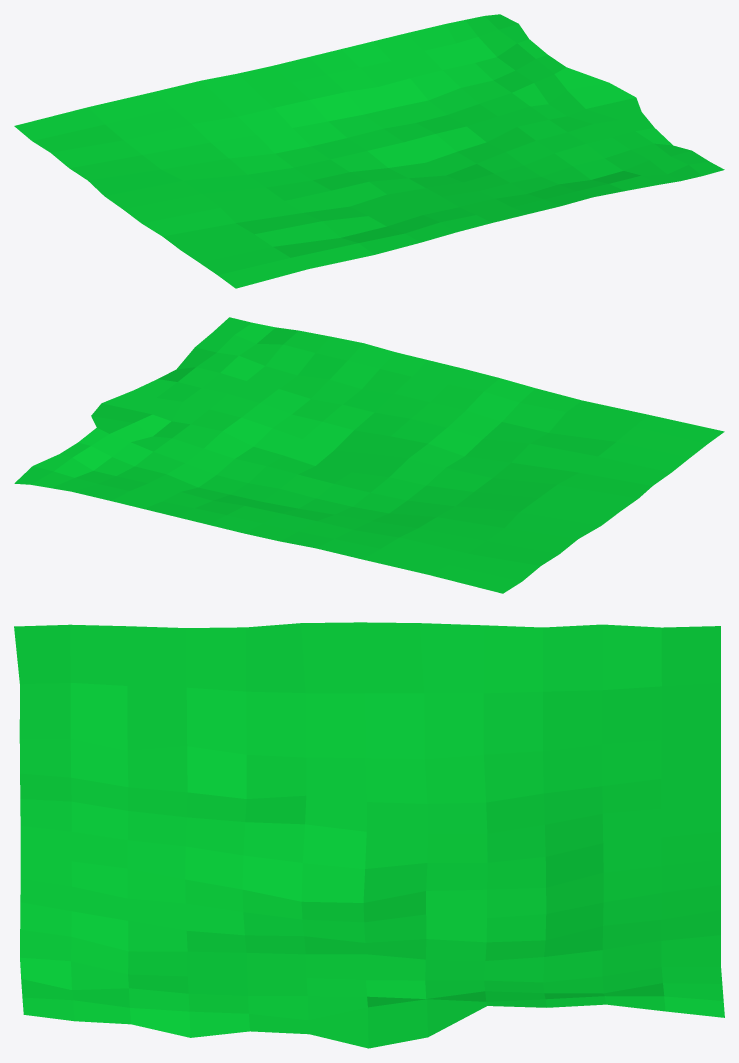
Rendered from valley.fbx.
The picture shows the model from 3 angles, top to bottom: view 1: azimuth 30°, elevation 25°; view 2: azimuth 150°, elevation 25°; view 3: azimuth 270°, elevation 25°; orthographic projection. The views are drawn at different scales.
Visible parts, largest first — view 1: Plane.012; view 2: Plane.012; view 3: Plane.012.
Boxes of the visible parts, x1=… form: Plane.012: x1=14, y1=14, x2=724, y2=288; Plane.012: x1=14, y1=317, x2=724, y2=593; Plane.012: x1=14, y1=622, x2=724, y2=1048.
Bounding box in the file's own units: 39958 × 2191 × 29930.
